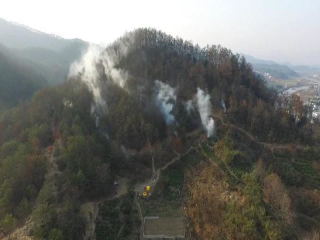smoke: (68, 49, 222, 139)
